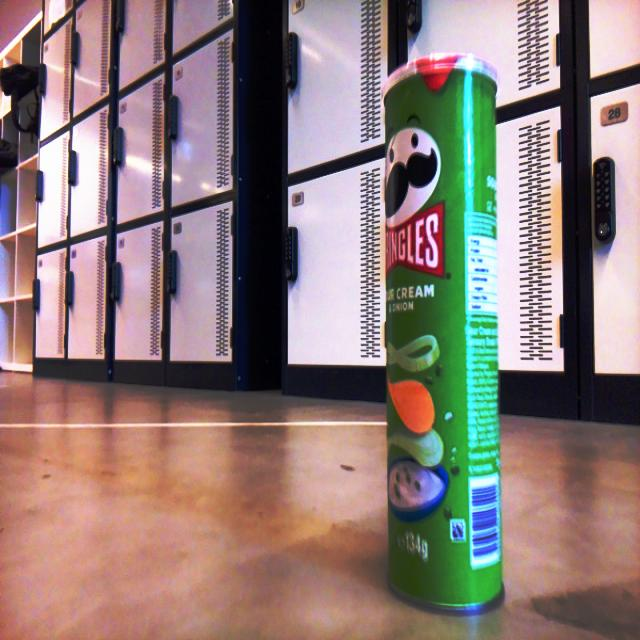greenpringles: (358, 52, 532, 619)
